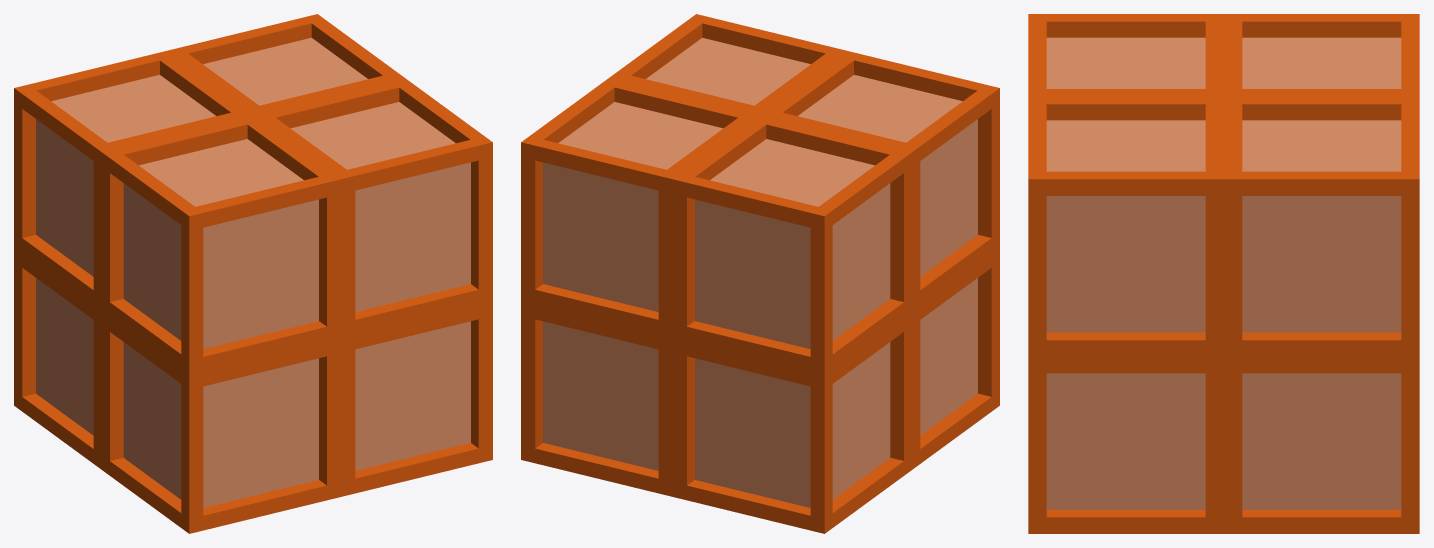
Rendered from grapplingAttachBox02.fbx.
3 renders of one model, left to right at view 1: azimuth 30°, elevation 25°; view 2: azimuth 150°, elevation 25°; view 3: azimuth 270°, elevation 25°, orthographic. The views are drawn at different scales.
Parts seen in each view (by area): view 1: Cube.001, Cube; view 2: Cube.001, Cube; view 3: Cube.001, Cube.
Boxes of the visible parts, x1,y1,x2,y2 form: Cube.001: (36,37,470,507); Cube: (14,14,492,533); Cube.001: (543,37,977,507); Cube: (521,14,999,533); Cube.001: (1046,37,1401,509); Cube: (1028,14,1419,533).
Size of the model in its own units: 200 by 200 by 200.
